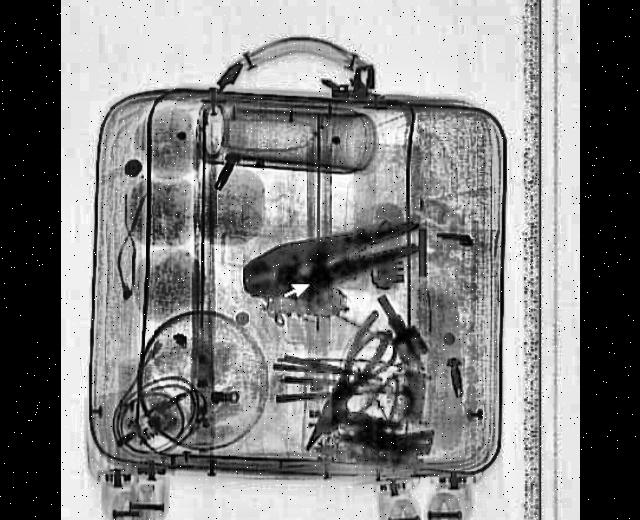Pliers: (242, 210, 424, 312), (296, 305, 398, 463)
